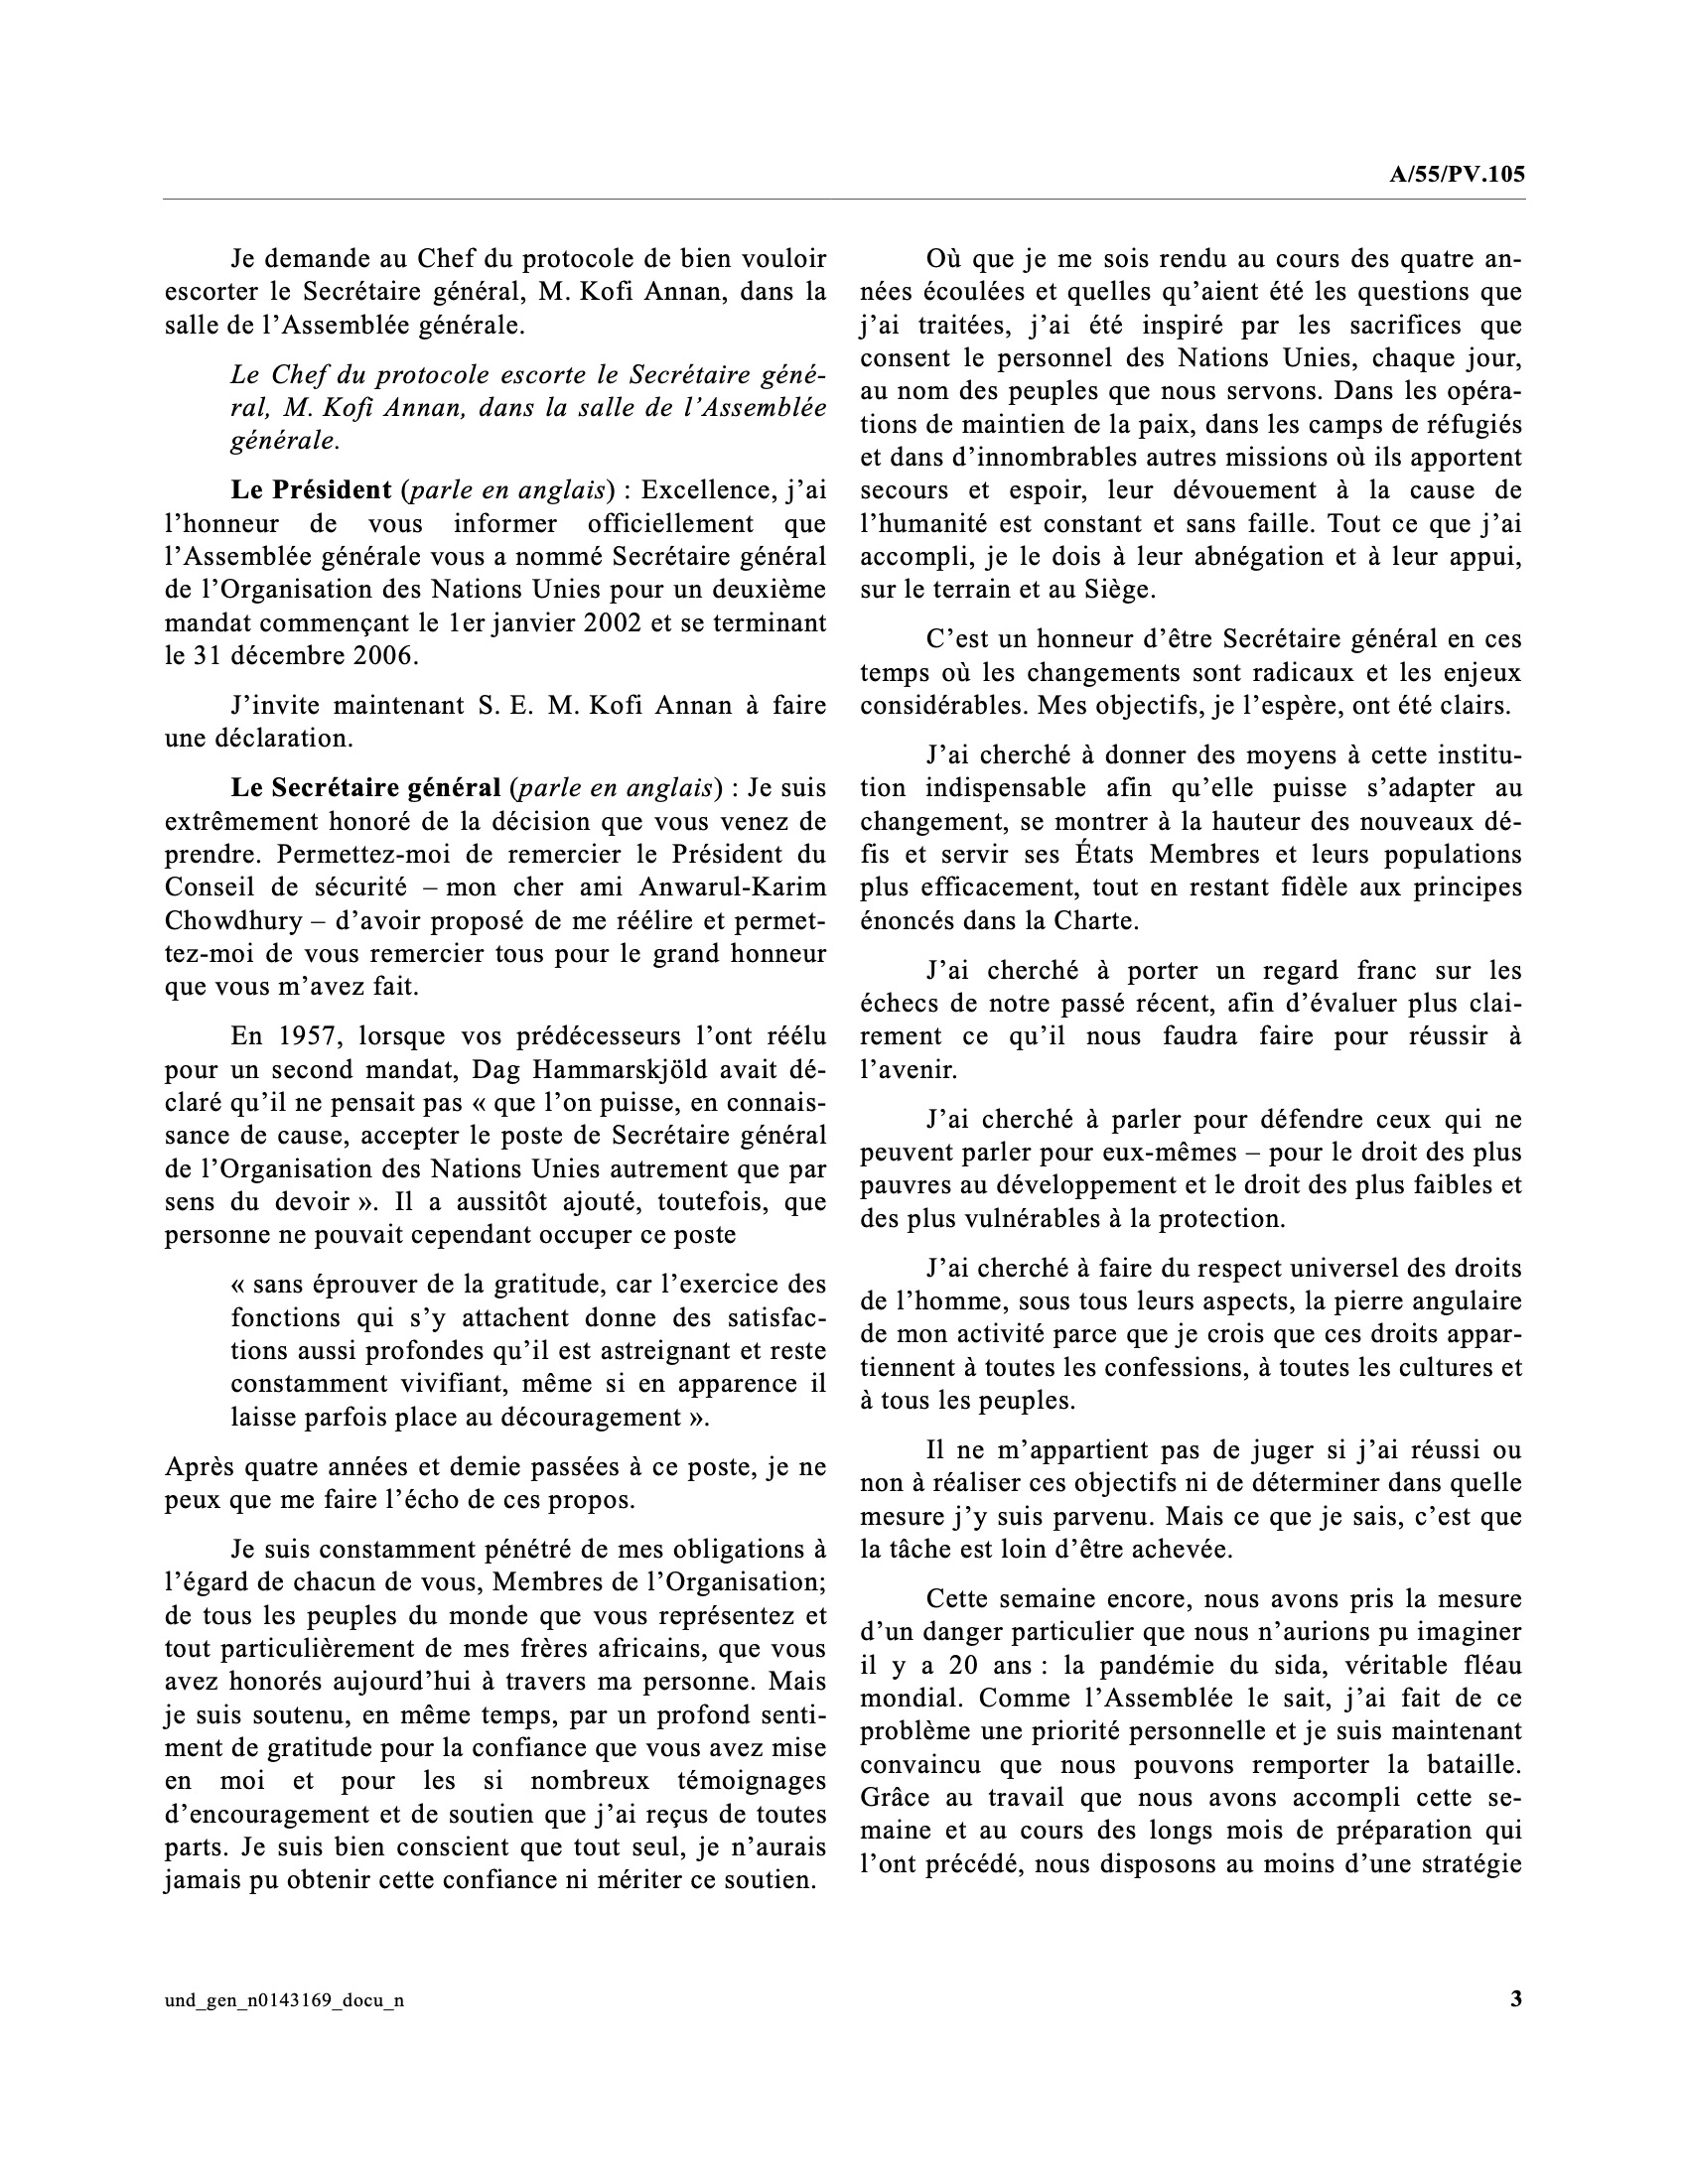MainZone-Other: (156, 1980, 417, 2024)
MainZone-P: (152, 1530, 837, 1902), (853, 238, 1532, 608), (855, 1581, 1534, 1884), (158, 1016, 835, 1252), (158, 769, 833, 1003), (158, 470, 835, 675), (855, 736, 1532, 938), (855, 1250, 1534, 1420), (215, 1266, 833, 1438), (855, 1099, 1532, 1237), (855, 950, 1532, 1087), (853, 1432, 1532, 1567), (154, 236, 837, 346), (855, 620, 1530, 723), (200, 355, 837, 459), (158, 1448, 832, 1519), (156, 686, 837, 755)
NumberingZone: (1505, 1980, 1527, 2016)
RunningTitleZone: (1385, 156, 1532, 193)
